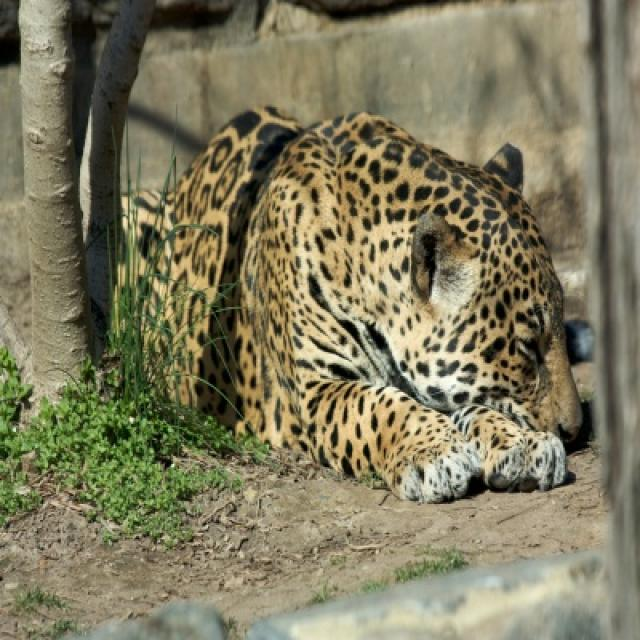Jaguar: (189, 114, 584, 506)
